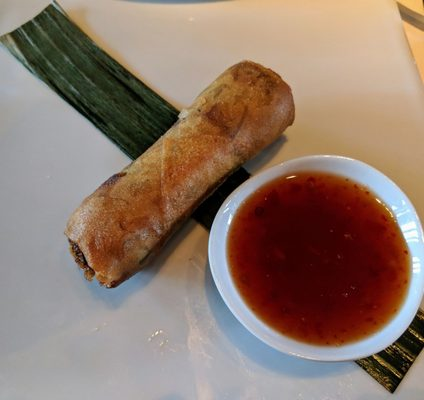sushi: (207, 153, 424, 363)
